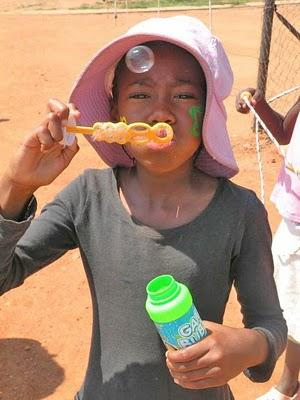person: (2, 9, 289, 400)
